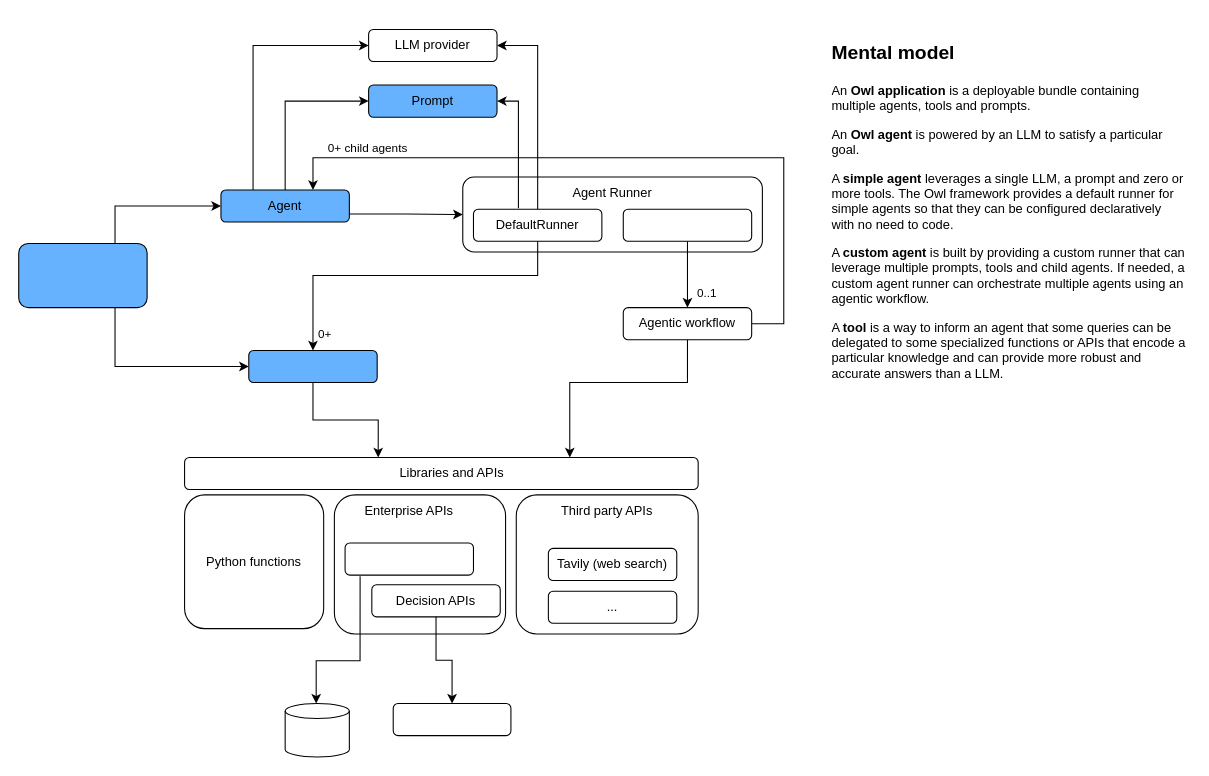
The diagram is 1209 pixels wide and 776 high, and some of its shapes have lost their labels. Here are the shapes that lost their labels. From the top down, the centre of each, then its label:
At (x=687, y=224): "CustomRunner".
At (x=82, y=275): "Application".
At (x=312, y=366): "Tool".
At (x=408, y=558): "Data APIs".
At (x=451, y=719): "Decision engine".
